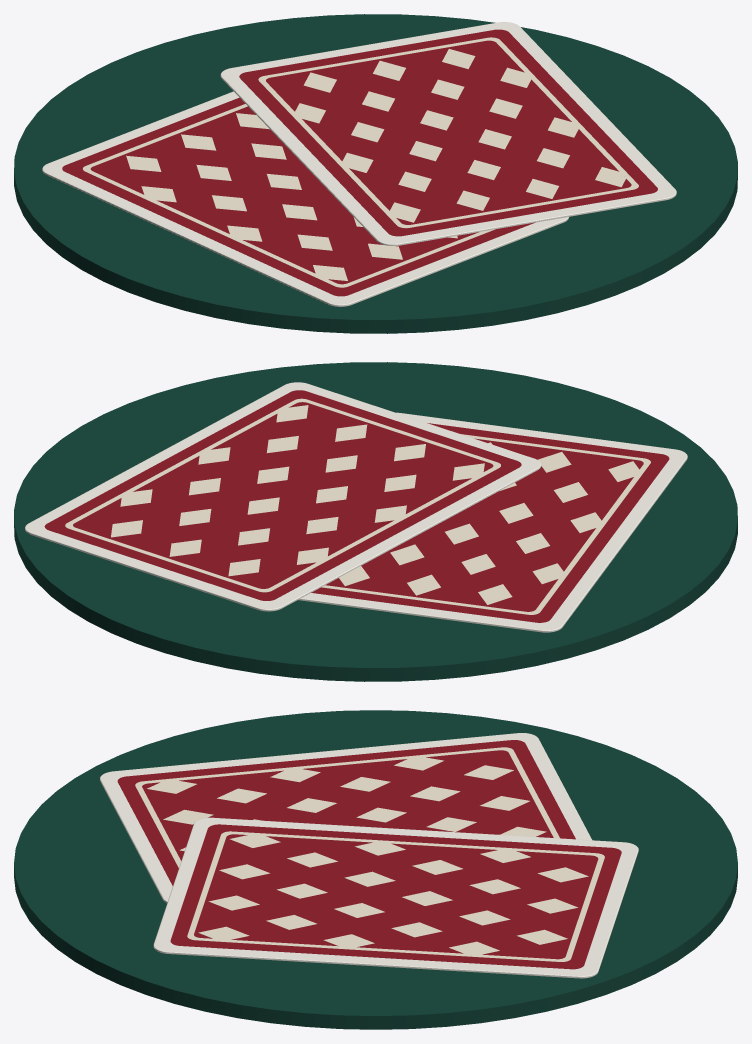
File: hole-cards.glb
The picture shows the model from 3 angles, top to bottom: view 1: azimuth 30°, elevation 25°; view 2: azimuth 150°, elevation 25°; view 3: azimuth 270°, elevation 25°; orthographic projection.
Visible parts, largest first — view 1: table_pad, back_field_over, back_field_under, card_body_over, back_lattice_over, card_body_under, back_lattice_under, back_keyline_over, back_keyline_under; view 2: table_pad, back_field_over, back_field_under, card_body_over, back_lattice_over, card_body_under, back_lattice_under, back_keyline_over, back_keyline_under; view 3: table_pad, back_field_over, back_field_under, card_body_over, back_lattice_over, card_body_under, back_lattice_under, back_keyline_over, back_keyline_under.
Boxes of the visible parts, x1,y1,x2,y2 form: table_pad: (14, 14, 737, 333); back_field_over: (239, 29, 657, 236); back_field_under: (62, 97, 535, 296); card_body_over: (220, 22, 676, 245); back_lattice_over: (295, 49, 625, 222); card_body_under: (42, 91, 569, 306); back_lattice_under: (126, 113, 457, 280); back_keyline_over: (258, 37, 638, 228); back_keyline_under: (83, 104, 495, 287); table_pad: (14, 362, 737, 681); back_field_over: (44, 390, 521, 600); back_field_under: (311, 423, 669, 622); card_body_over: (25, 382, 541, 611); back_lattice_over: (111, 405, 484, 576); card_body_under: (298, 412, 687, 632); back_lattice_under: (339, 442, 639, 604); back_keyline_over: (65, 398, 500, 592); back_keyline_under: (321, 434, 650, 614); table_pad: (14, 710, 737, 1029); back_field_over: (170, 824, 621, 969); back_field_under: (117, 740, 575, 885); card_body_over: (153, 817, 638, 978); back_lattice_over: (198, 835, 588, 954); card_body_under: (100, 733, 591, 902); back_lattice_under: (147, 757, 546, 851); back_keyline_over: (187, 831, 604, 961); back_keyline_under: (135, 747, 559, 867).
Bounding box in the file's own units: 0.144 × 0.00449 × 0.144.
